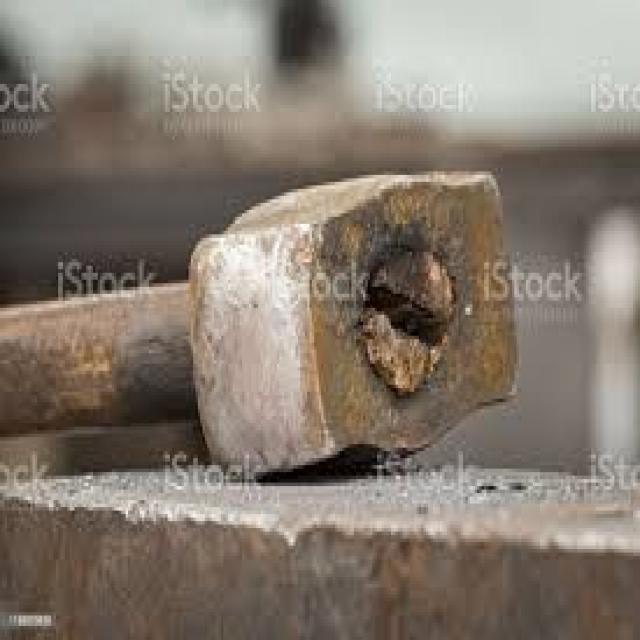hammer: (0, 159, 528, 501)
